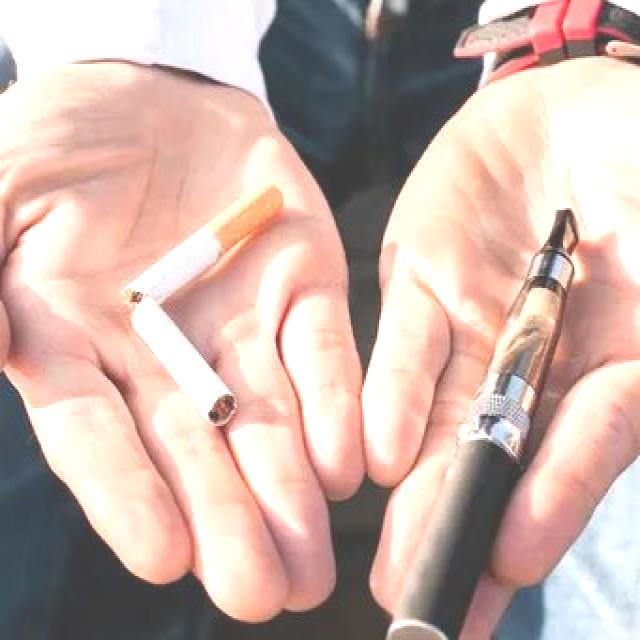cigarette: (382, 204, 586, 640), (120, 172, 300, 302), (128, 306, 262, 440)
